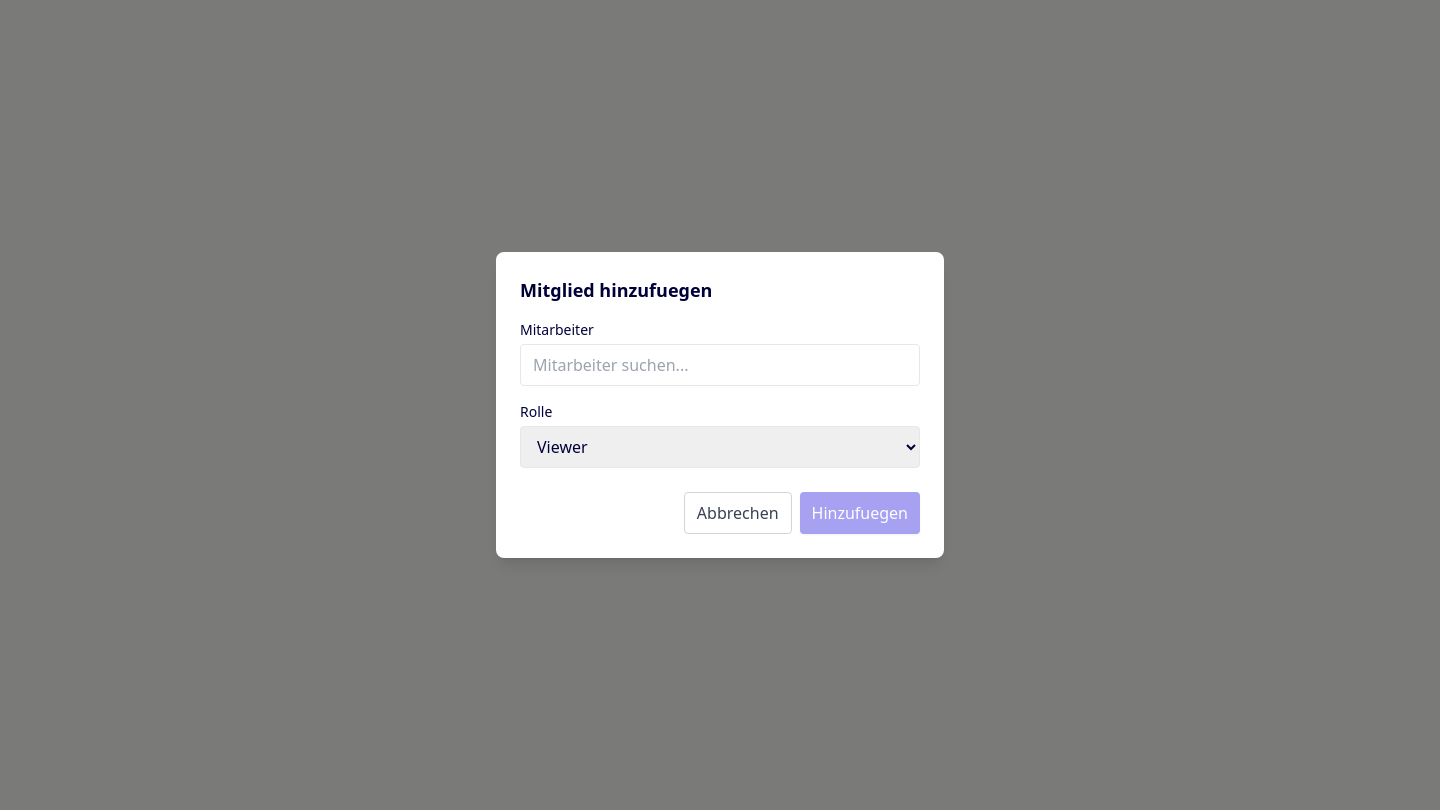
Test: AddMemberDialog › filters employees in combobox and excludes already assigned
Note: Find the employee search input by its id
Focus the dropdown with placeholder "Mitarbeiter suchen..." at coordinates (720, 365), box [520,344,920,386]
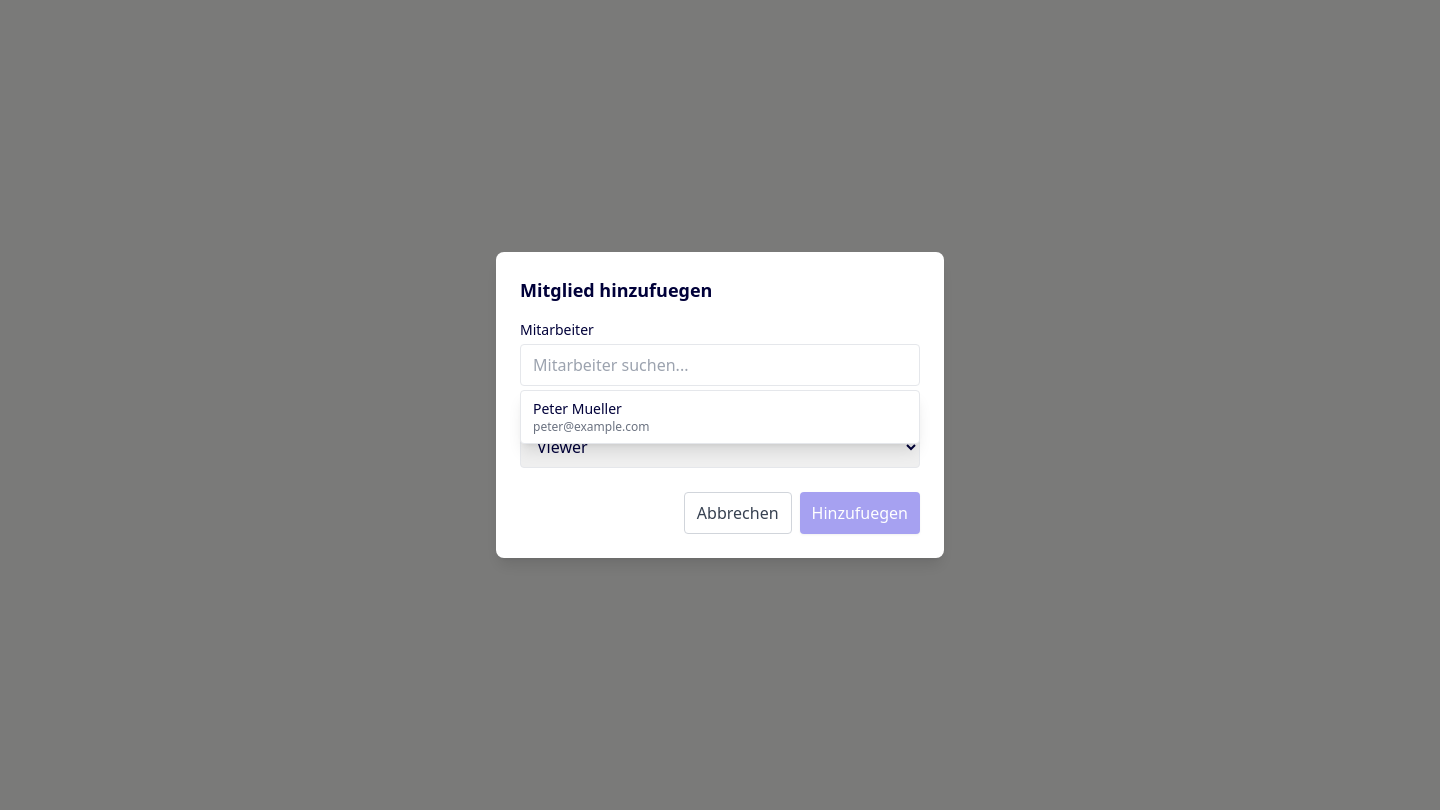
Now the option "Peter Mueller peter@example.com" is shown, box [521,391,919,443]
